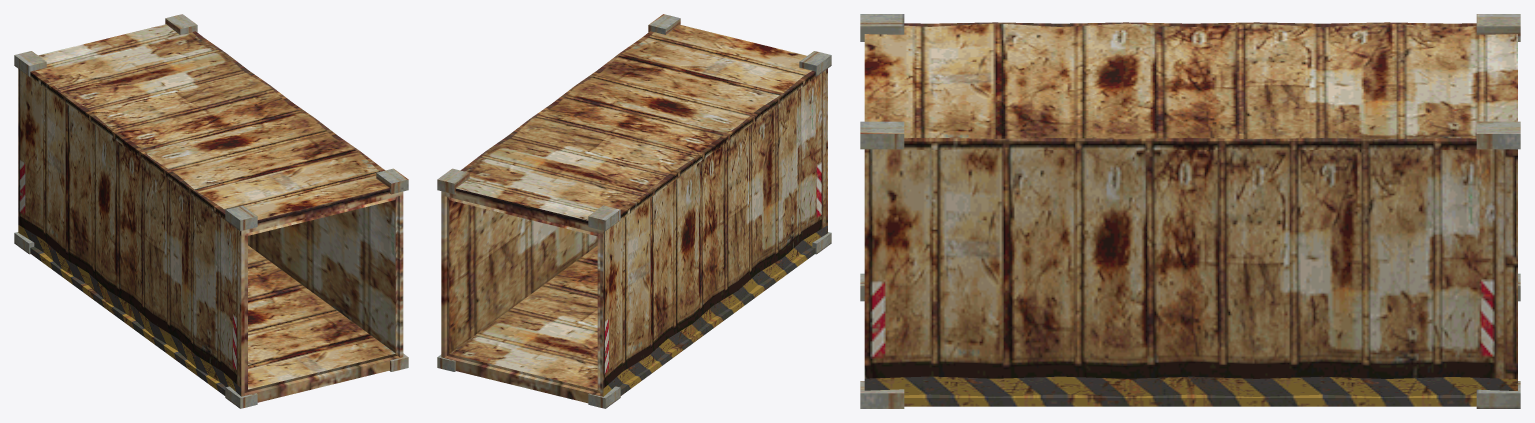
File: ContainerOpen4_SM.fbx
3 views of the same model, side by side, from view 1: azimuth 30°, elevation 25°; view 2: azimuth 150°, elevation 25°; view 3: azimuth 270°, elevation 25° (orthographic). The views are drawn at different scales.
Parts seen in each view (by area): view 1: Box010; view 2: Box010; view 3: Box010.
Boxes of the visible parts, box(x1,y1,x2,y2) form: Box010: box(14, 14, 408, 408); Box010: box(437, 14, 831, 408); Box010: box(860, 14, 1520, 408).
Size of the model in its own units: 238 by 255 by 554.
